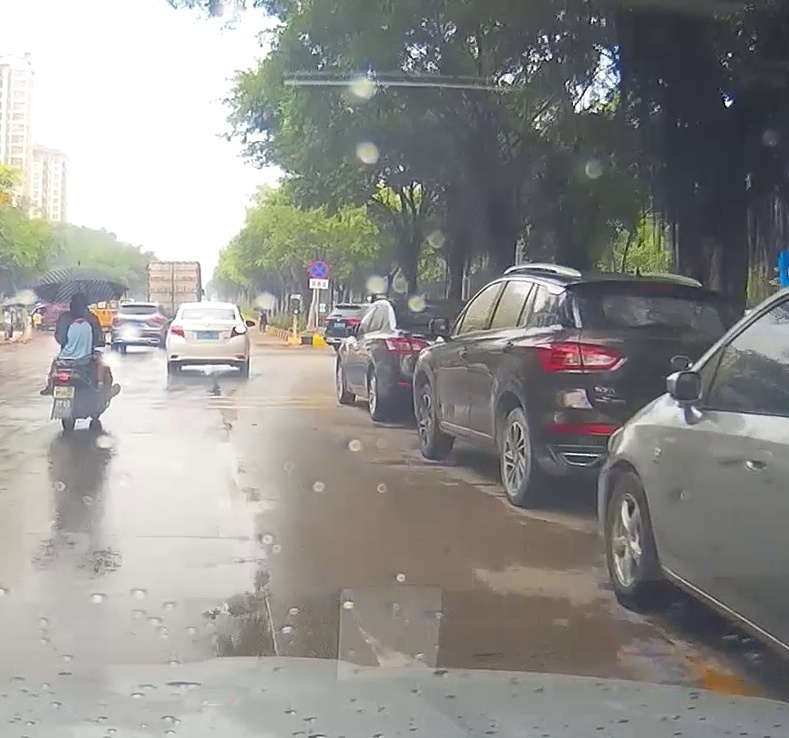L_light: (170, 325, 185, 339), (112, 317, 122, 327)
R_light: (229, 324, 248, 339), (148, 316, 163, 325)
T_light: (203, 317, 214, 319), (135, 305, 144, 307)
day-no: (111, 302, 164, 353)
night-right: (166, 302, 250, 376)
